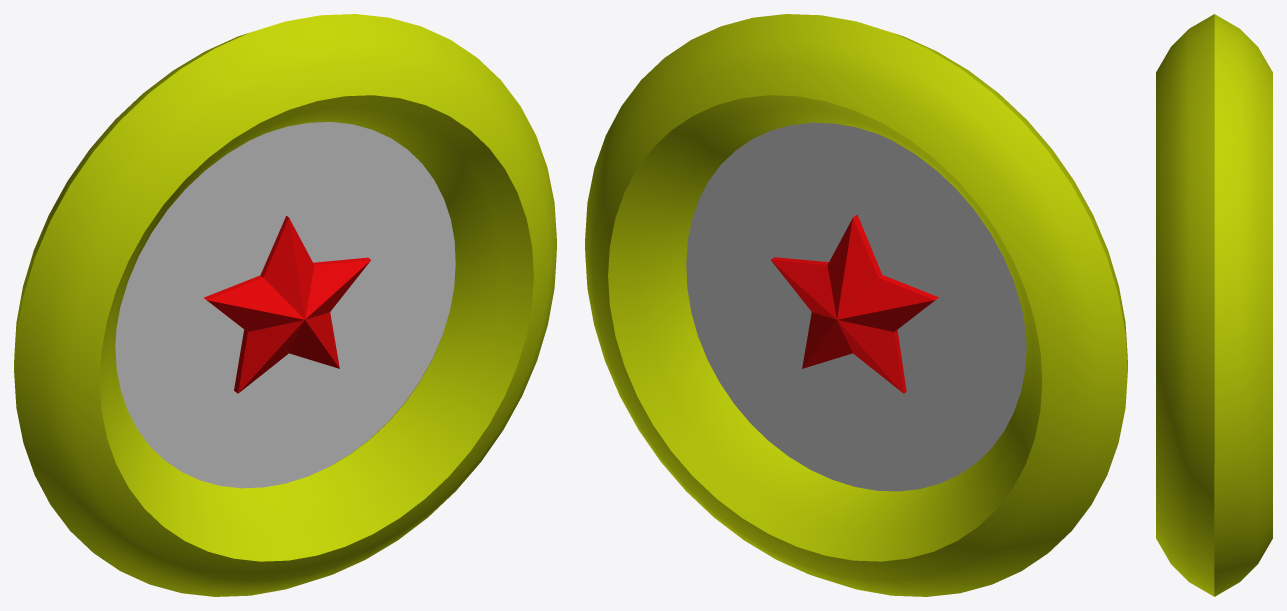
File: GoalRing.fbx
3 renders of one model, left to right at view 1: azimuth 30°, elevation 25°; view 2: azimuth 150°, elevation 25°; view 3: azimuth 270°, elevation 25°, orthographic. The views are drawn at different scales.
Visible parts, largest first — view 1: Torus, Circle.001, Circle; view 2: Torus, Circle.001, Circle; view 3: Torus.
Part boxes in pixels (<box>): Torus: <box>14,14,556,596</box>; Circle.001: <box>115,122,455,488</box>; Circle: <box>203,216,370,393</box>; Torus: <box>585,14,1127,596</box>; Circle.001: <box>686,122,1026,491</box>; Circle: <box>771,214,938,393</box>; Torus: <box>1156,14,1272,596</box>.
Bounding box in the file's own units: 2.5 × 2.5 × 0.5.
